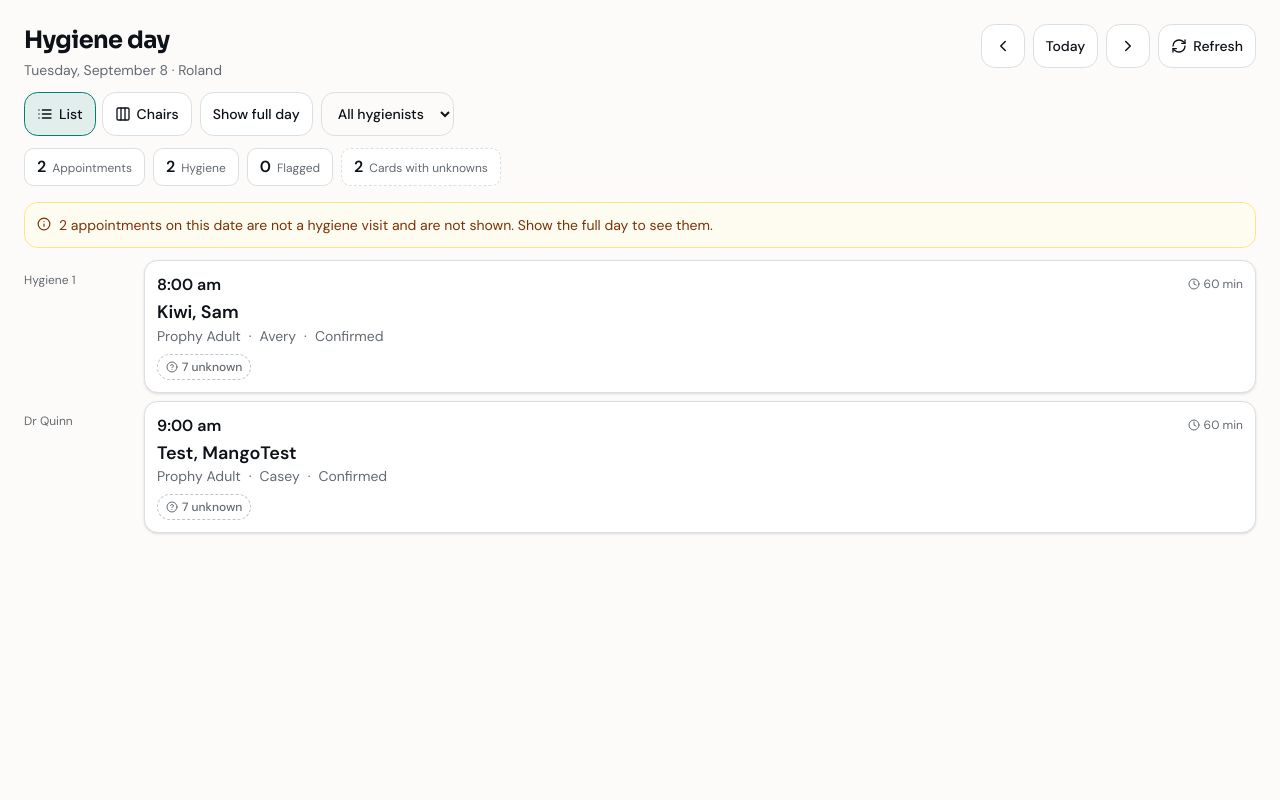
Test: the lens › showing the full day is a SECOND request, and it pays for itself
Expected: the element with test id "hyg-day-list" is shown, [24, 260, 1256, 533]
Step 1. Click the button with test id "hyg-scope-toggle" → (256, 114), box [200, 92, 313, 136]
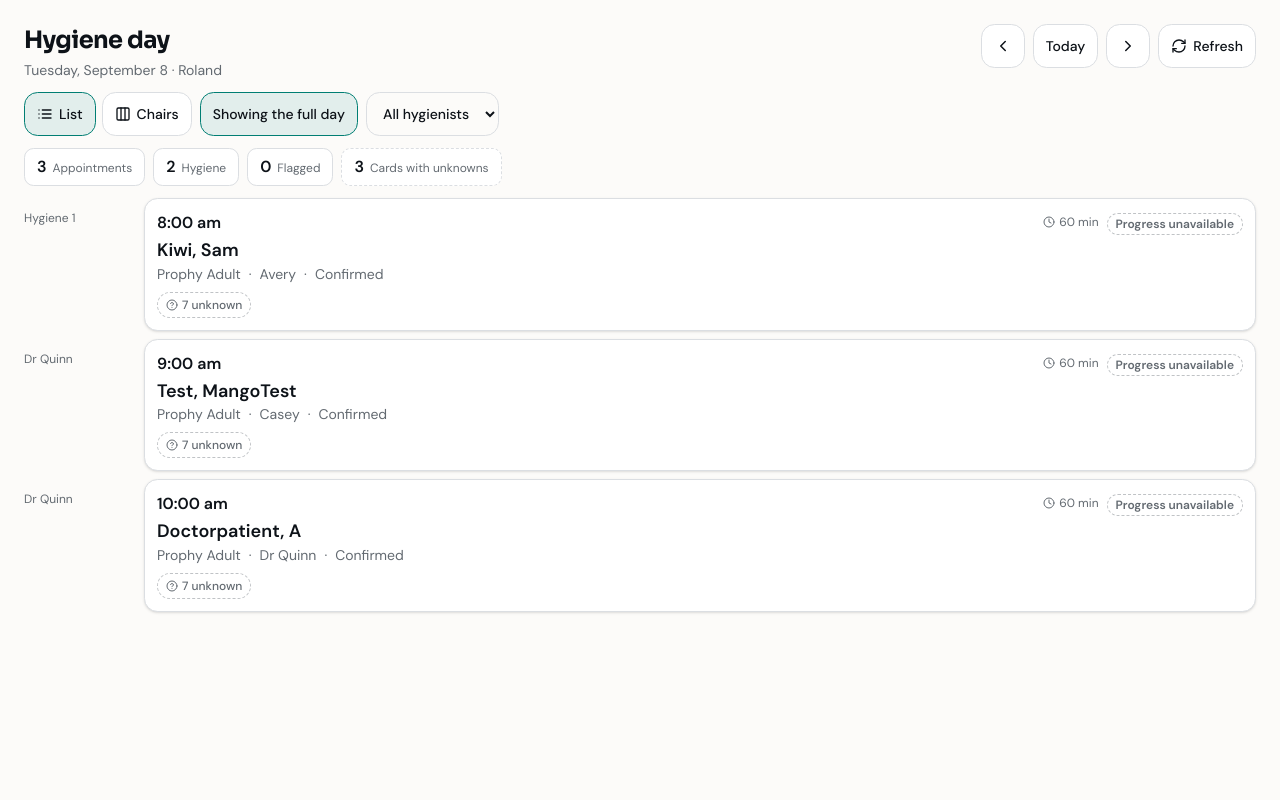
Expected: the number of links with test id "hyg-appointment-card" is 3, [144, 198, 1256, 330]; [144, 338, 1256, 471]; [144, 479, 1256, 612]
Expected: the element with test id "hyg-day-notices" is gone
